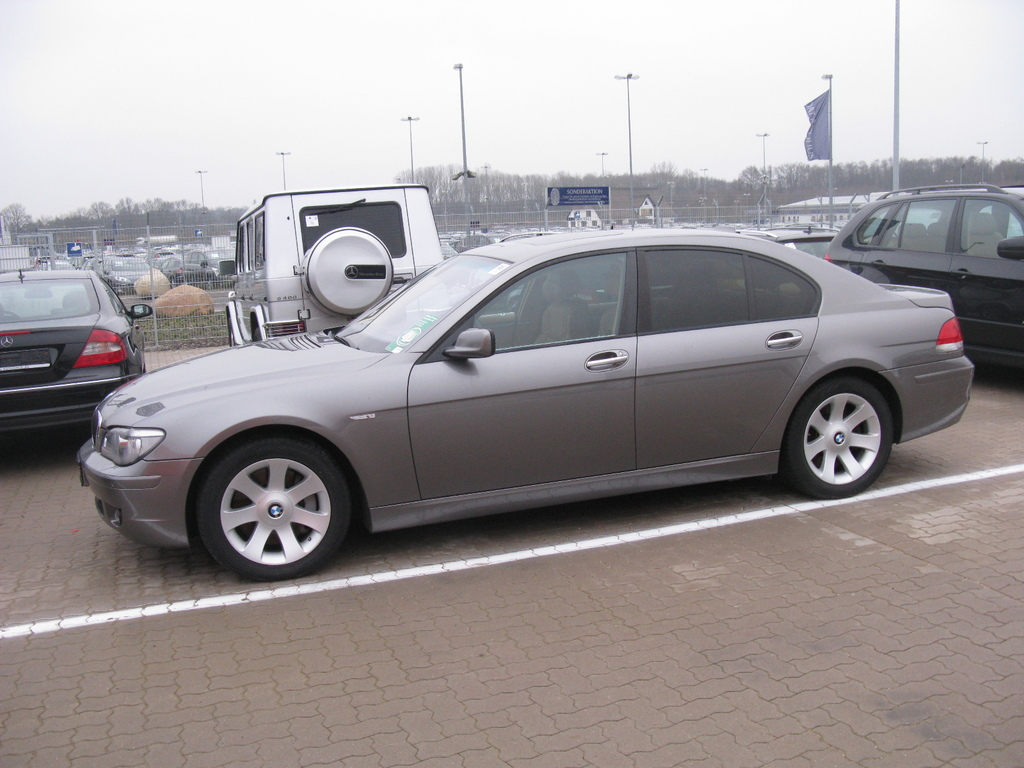mobil: (86, 215, 974, 603)
